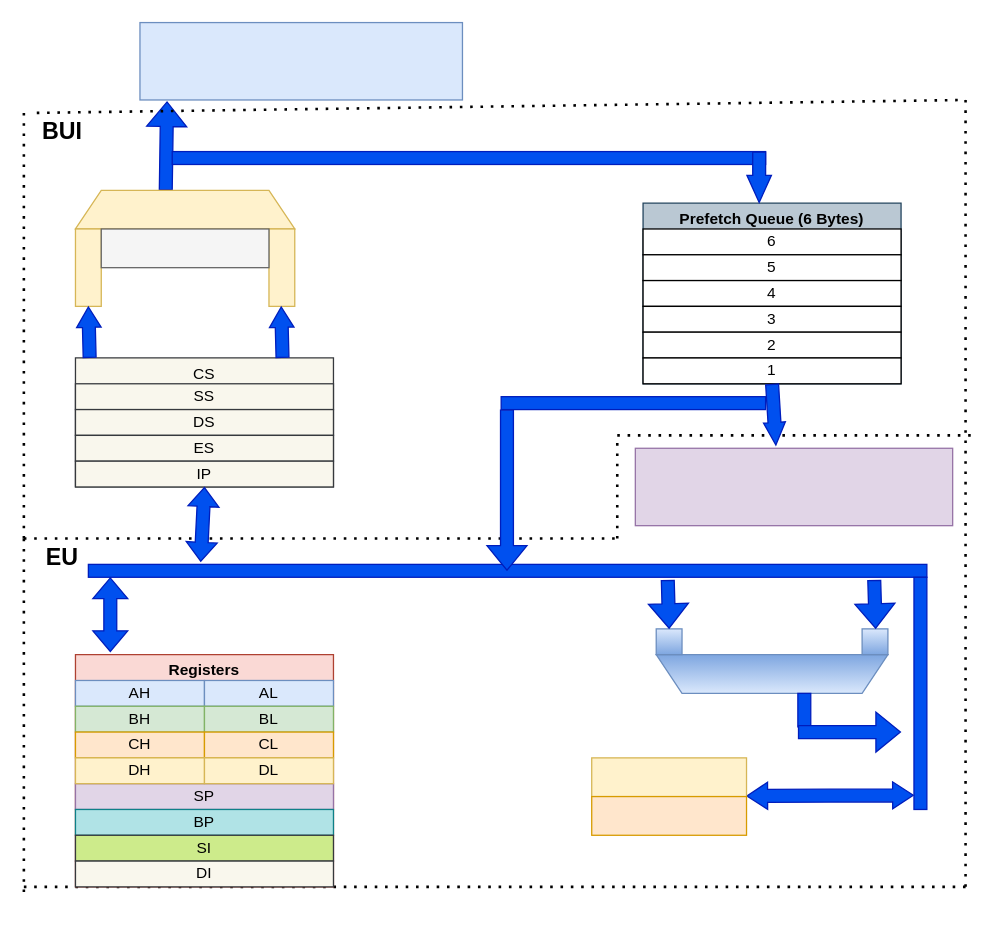
This 1002x925 diagram has some shape labels left out. Here are the shapes that lost their labels. From the top down, the centre of each, then its label:
(x=300, y=60): Connection to memory and I/O devices
(x=184, y=248): PA = SA * 0x10 + OA
(x=793, y=486): Control Unit
(x=771, y=673): ALU
(x=668, y=777): Operands
(x=668, y=815): Flags
